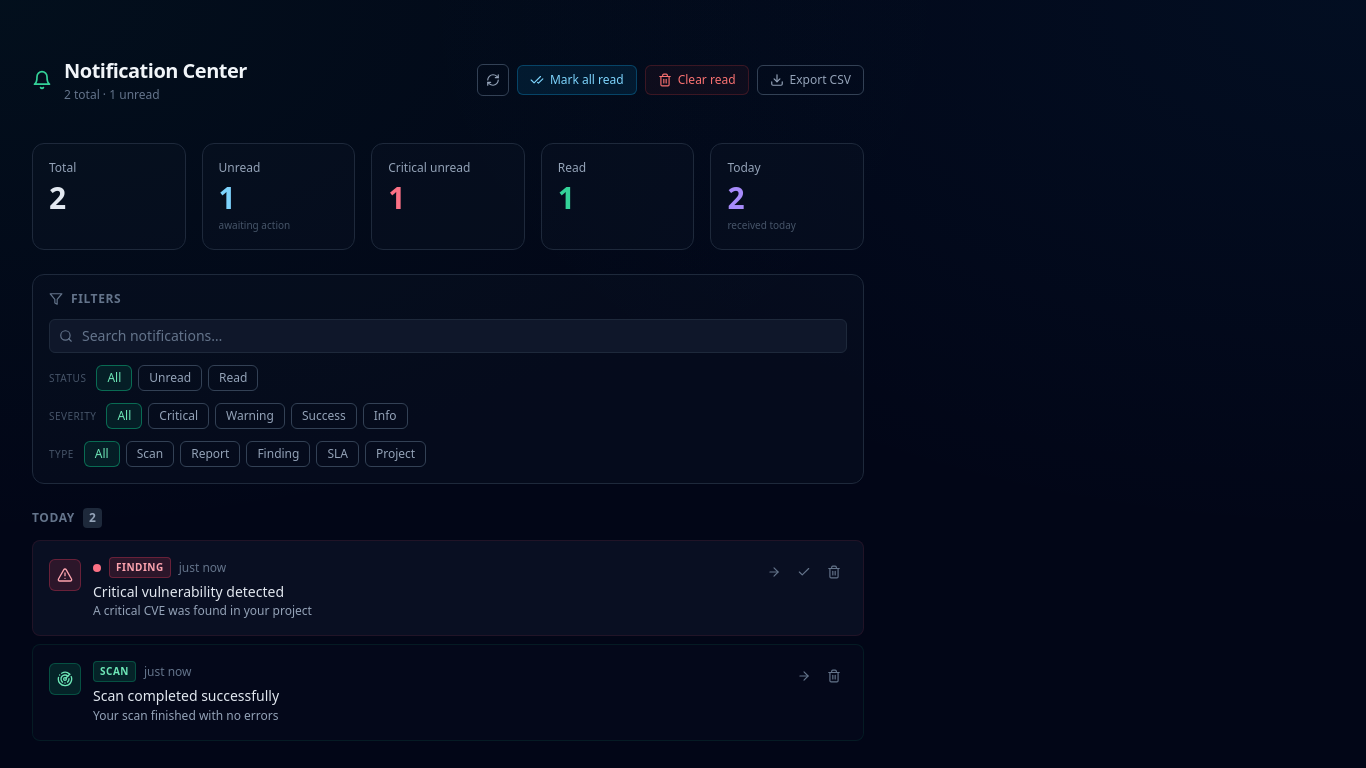
it: Notifications — severity filter › "critical" severity filter hides non-critical notifications
Expected: the text "Scan completed successfully" is shown, [93,686,279,705]
Click the button "critical". click: (179, 416)
box: [148,403,209,429]
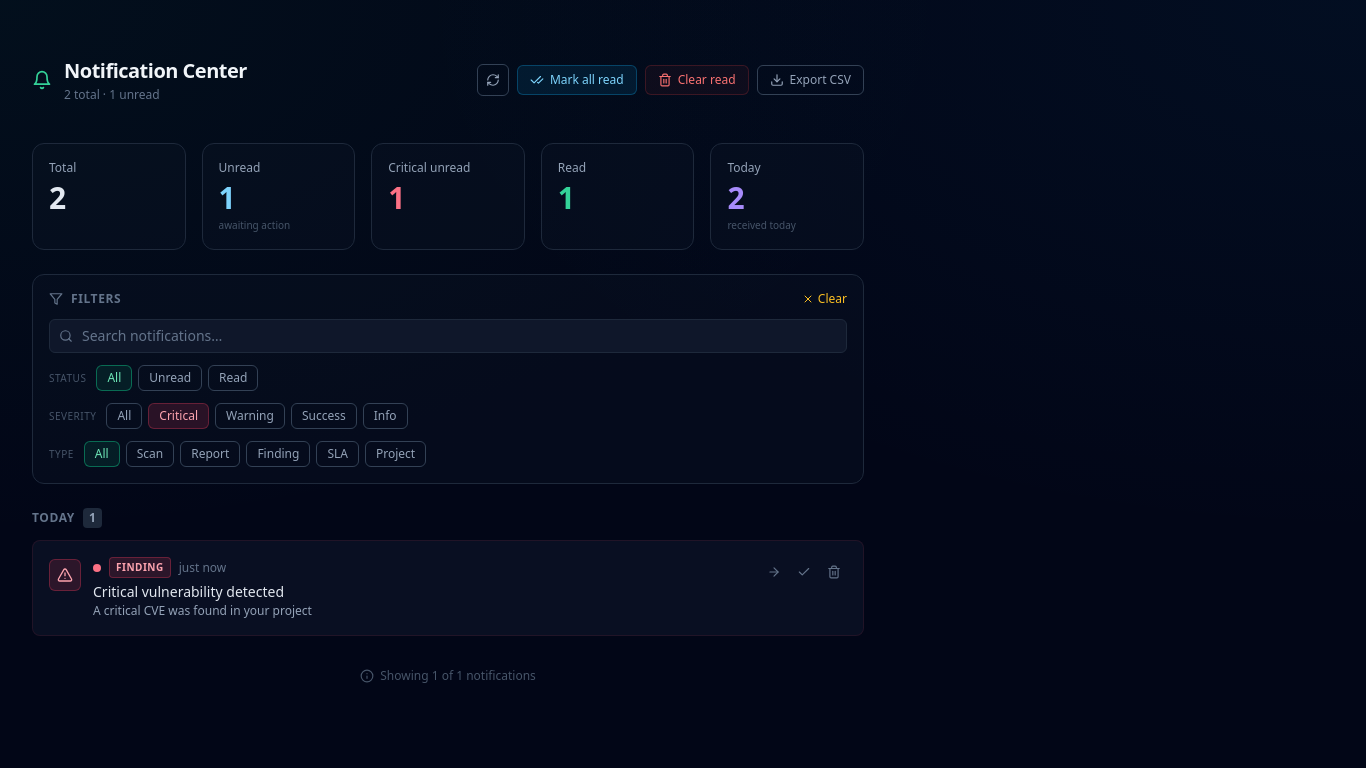
Expected: the text "Critical vulnerability detected" is shown, [93,582,284,601]
Result: the text "Scan completed successfully" is gone
